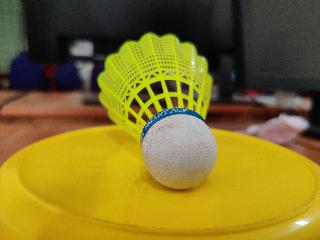shuttlecock: (97, 30, 217, 190)
